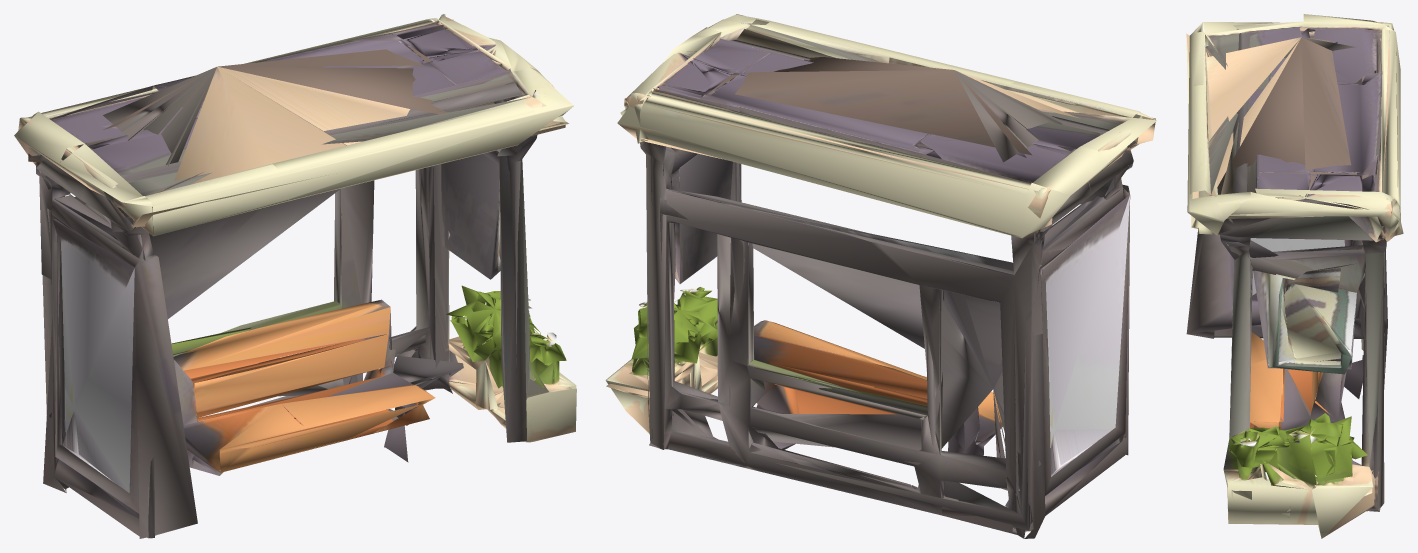
The model's file is M-10_02_busstop.glb.
3 views of the same model, side by side, from view 1: azimuth 30°, elevation 25°; view 2: azimuth 150°, elevation 25°; view 3: azimuth 270°, elevation 25° (orthographic). The views are drawn at different scales.
Parts seen in each view (by area): view 1: busstop; view 2: busstop; view 3: busstop.
Part boxes in pixels (x1,y1,x2,y2): busstop: (14,14,576,538); busstop: (605,14,1156,538); busstop: (1186,14,1403,538).
Bounding box in the file's own units: 5.34 × 4.5 × 2.39.
2 materials, 2 textured.
